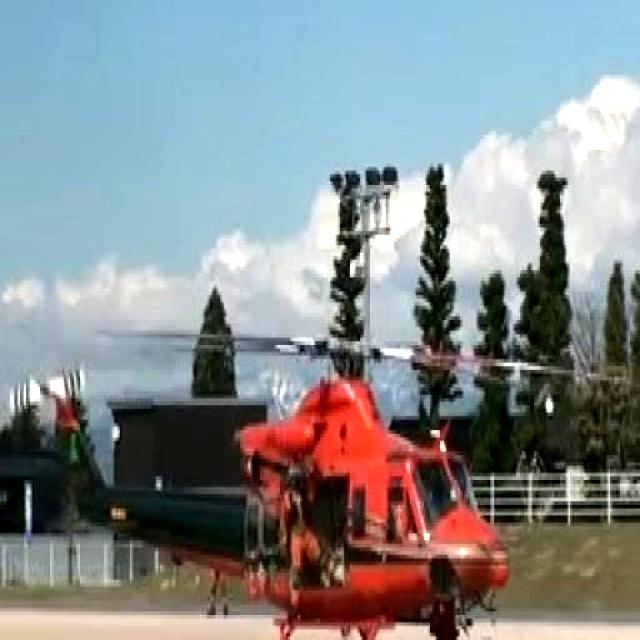drone: (16, 321, 574, 640)
